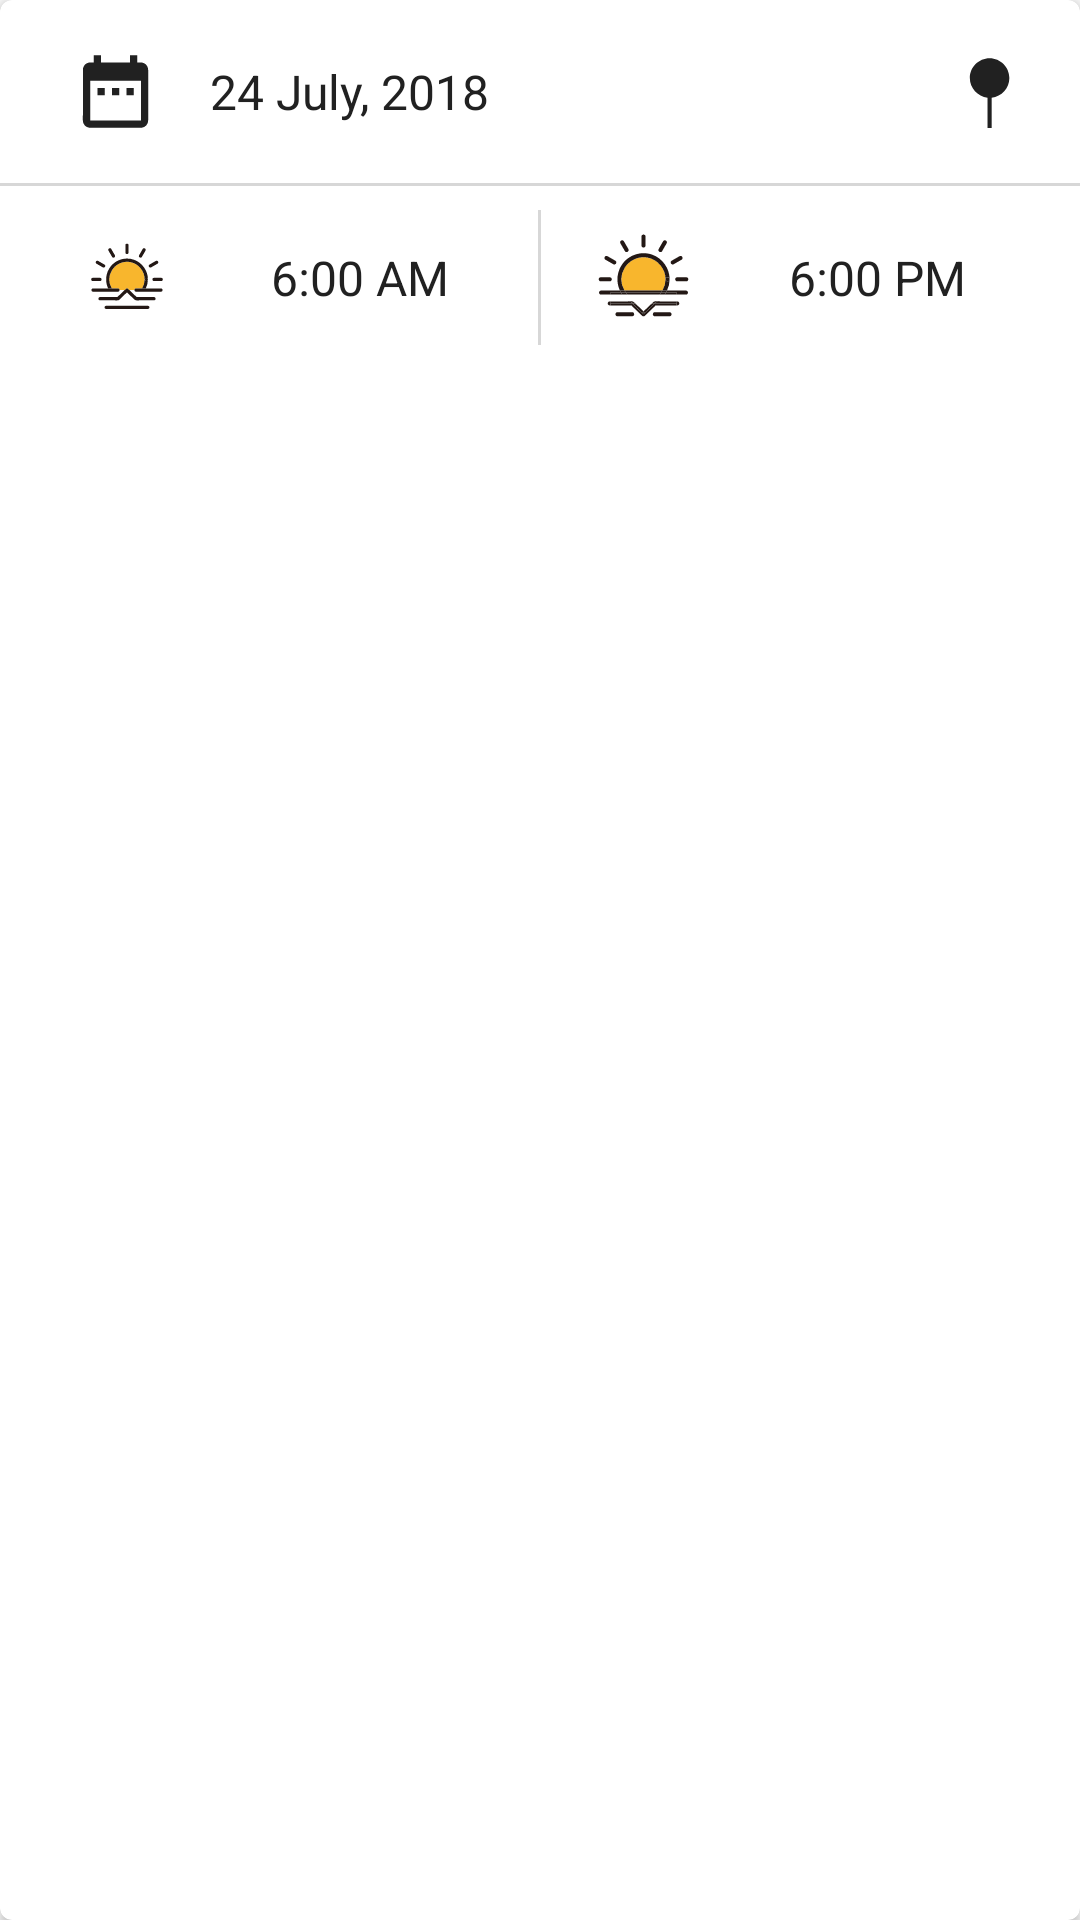

Screen size 1080 × 1920. Icon name, then its box in pixels as (x1, y1, x2, y2):
date: (82, 55, 149, 128)
pin: (969, 58, 1010, 128)
sunrise: (91, 243, 163, 309)
sunset: (598, 234, 689, 317)
